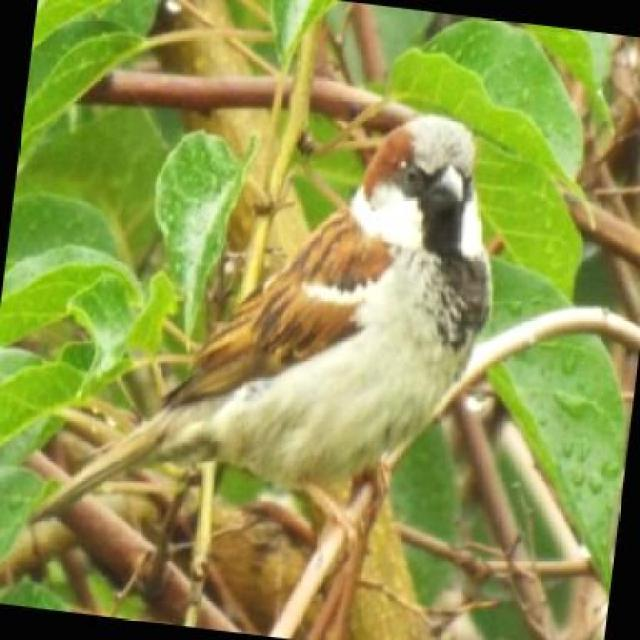Bird: (82, 115, 506, 569)
